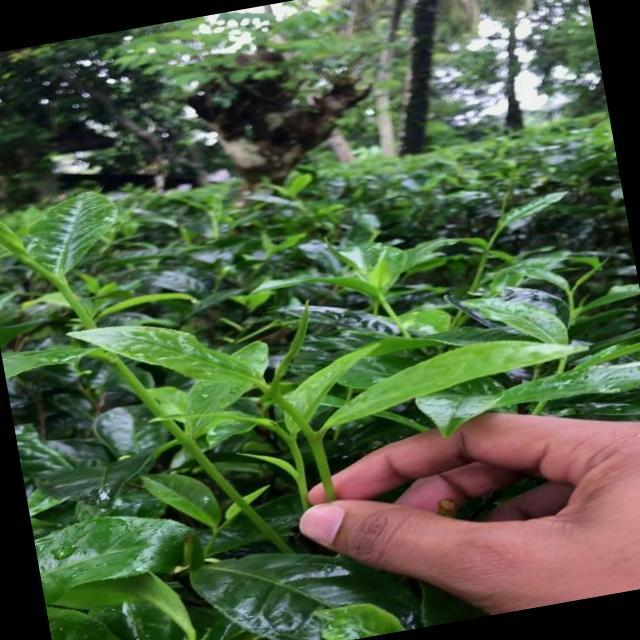Stem: (310, 434, 322, 445), (288, 439, 296, 447), (213, 528, 217, 533)
